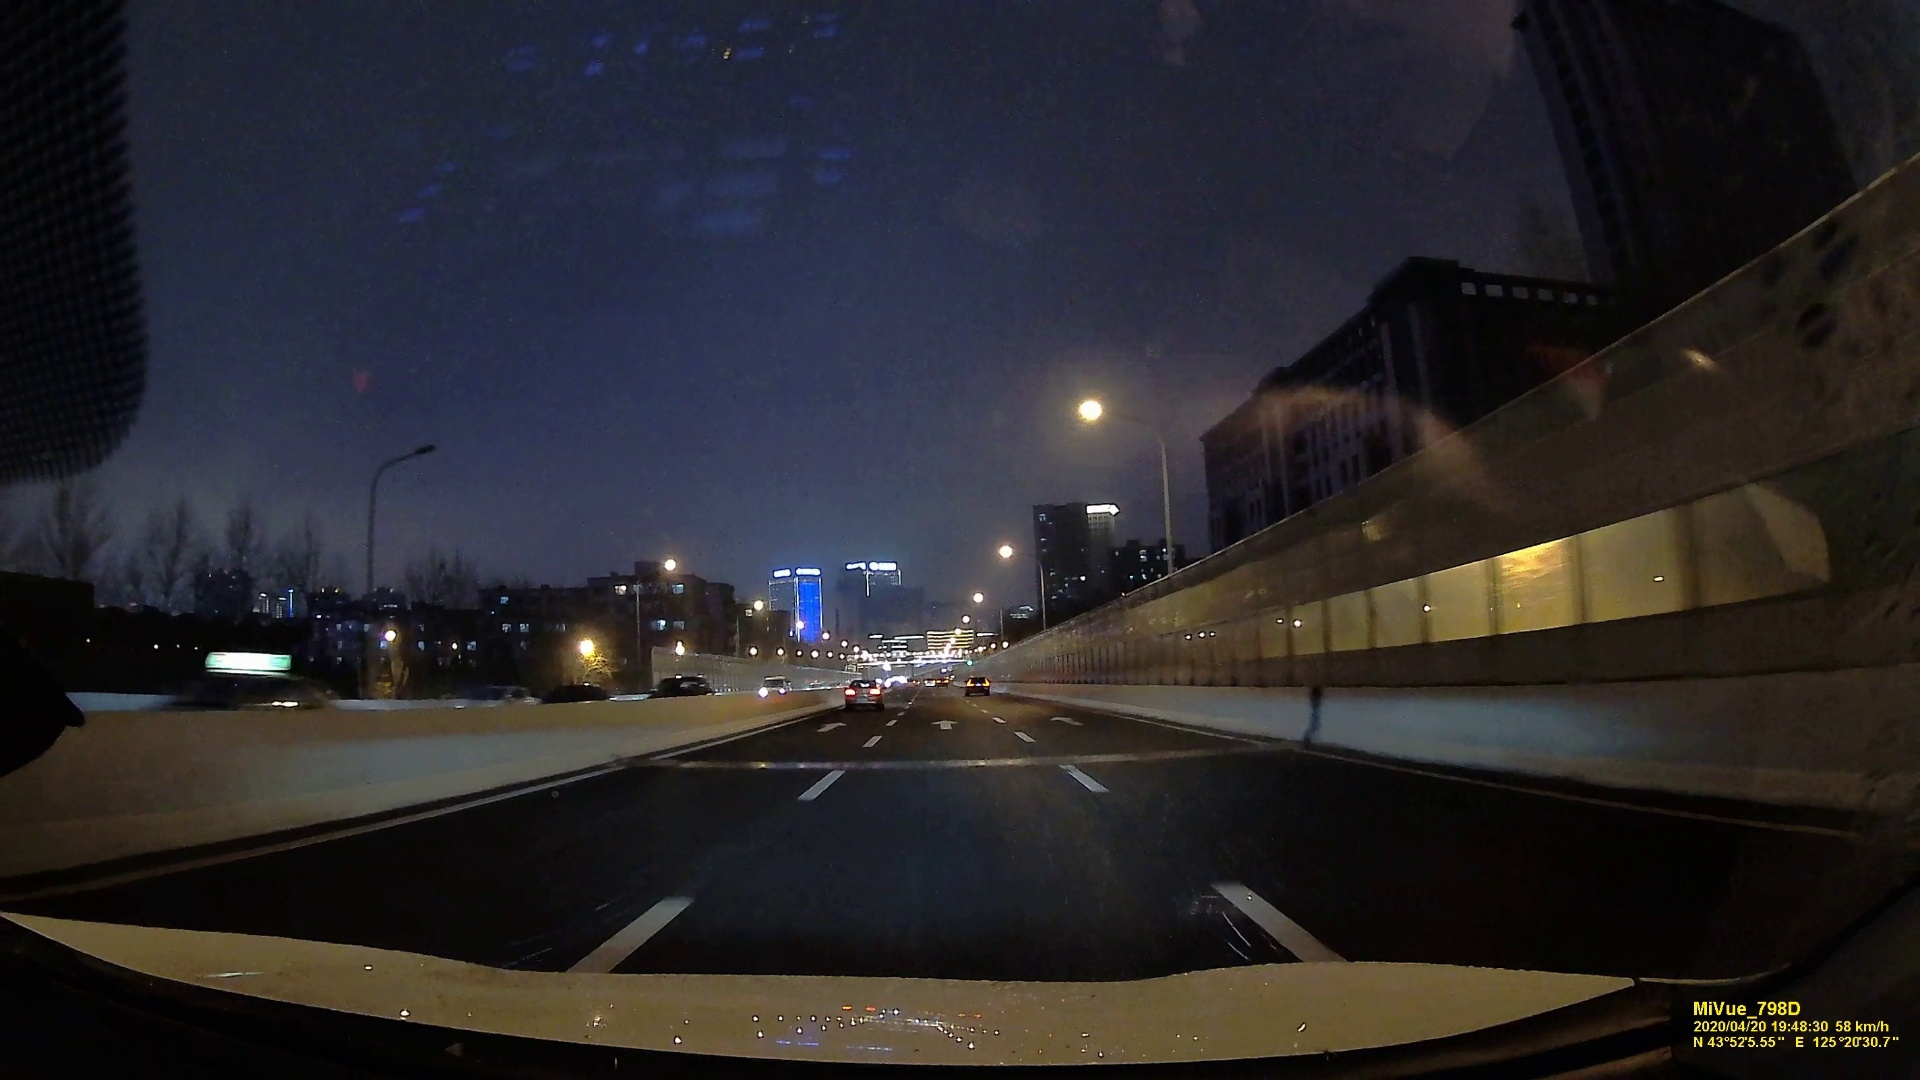vehicle: (843, 676, 884, 709), (757, 676, 793, 696), (964, 675, 988, 694)
